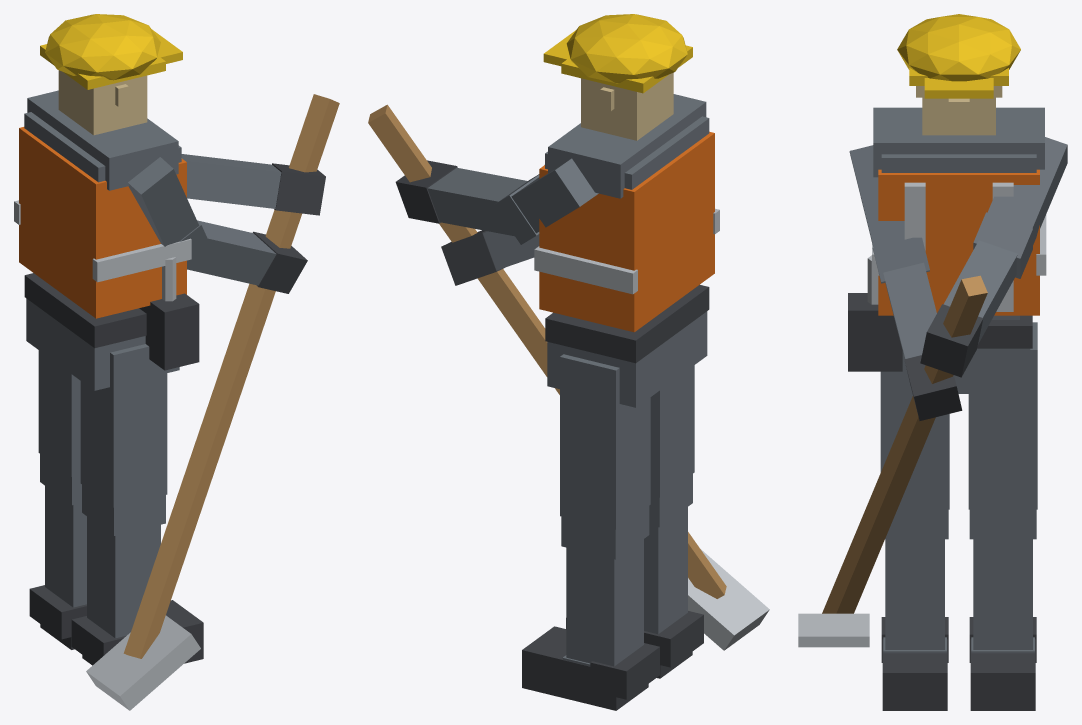
File: worker_hoe.glb
3 renders of one model, left to right at view 1: azimuth 30°, elevation 25°; view 2: azimuth 150°, elevation 25°; view 3: azimuth 270°, elevation 25°, orthographic. The views are drawn at different scales.
Visible parts, largest first — view 1: Worker_Body, Worker_LegR, Worker_Hoe, Worker_LegL, Worker_ArmR, Worker_ArmL; view 2: Worker_Body, Worker_LegL, Worker_LegR, Worker_Hoe, Worker_ArmL, Worker_ArmR; view 3: Worker_Body, Worker_LegL, Worker_LegR, Worker_Hoe, Worker_ArmL, Worker_ArmR.
Boxes of the visible parts, x1,y1,x2,y2 form: Worker_Body: (14, 14, 199, 390); Worker_LegR: (71, 344, 203, 665); Worker_Hoe: (86, 94, 339, 710); Worker_LegL: (29, 350, 86, 649); Worker_ArmR: (128, 157, 307, 293); Worker_ArmL: (181, 154, 325, 215); Worker_Body: (534, 14, 719, 407); Worker_LegL: (522, 354, 659, 710); Worker_LegR: (566, 365, 703, 678); Worker_Hoe: (368, 104, 769, 650); Worker_ArmL: (395, 158, 598, 244); Worker_ArmR: (441, 230, 539, 285); Worker_Body: (848, 14, 1046, 393); Worker_LegL: (968, 322, 1037, 710); Worker_LegR: (880, 371, 949, 710); Worker_Hoe: (798, 275, 987, 647); Worker_ArmL: (920, 137, 1067, 377); Worker_ArmR: (849, 145, 962, 420).
Bounding box in the file's own units: 0.8682 × 1.72 × 0.6422.
